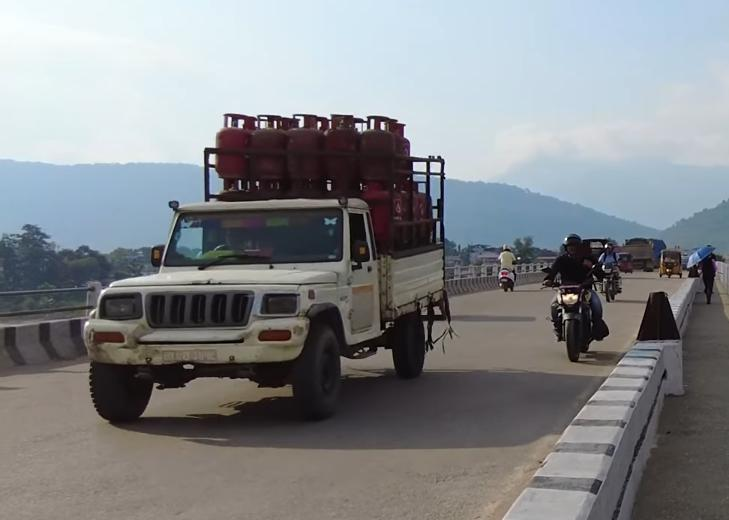auto_rickshaw: (654, 244, 688, 284)
bike: (534, 226, 611, 371)
scooter: (490, 239, 522, 297)
transport_vehicle: (81, 141, 452, 435)
